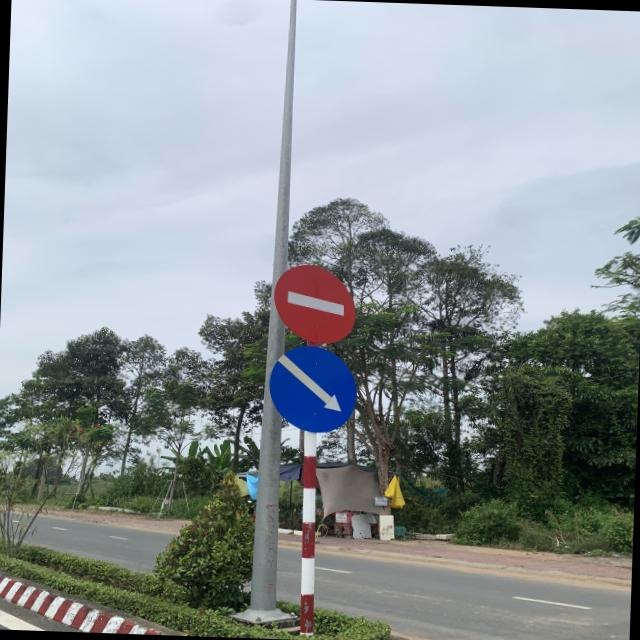Cam_Di_Nguoc_Chieu: (272, 262, 356, 346)
Chi_Huong_Di_Phai: (266, 344, 362, 433)
